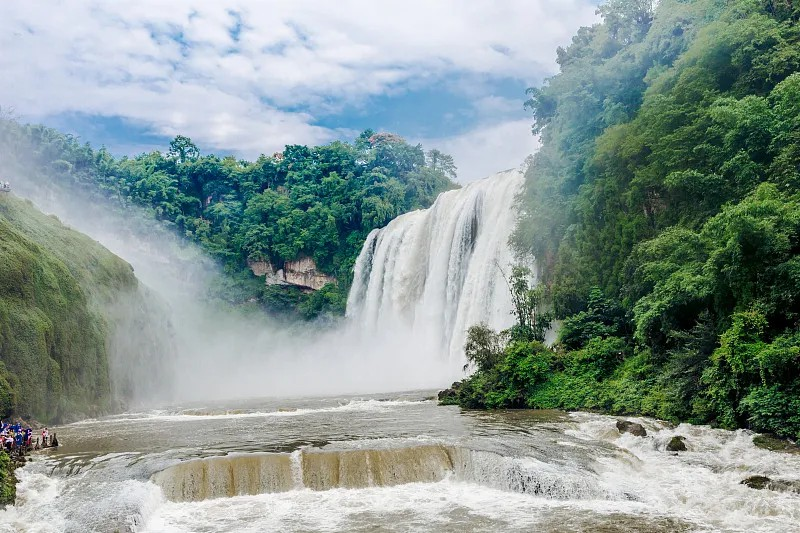Huangguoshu: (343, 165, 541, 389)
